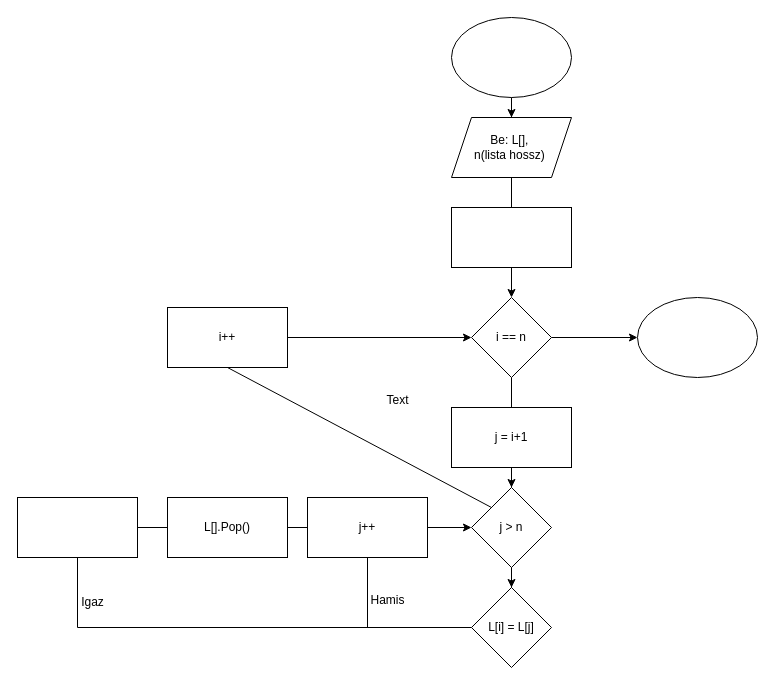
This 775x685 diagram has some shape labels left out. Here are the shapes that lost their labels. From the top down, the box of each, then its label:
(450, 16, 572, 98): START
(450, 206, 572, 268): i = 0
(636, 296, 758, 378): END
(16, 496, 138, 558): tmp = L[j] L[j] = L[n] L[n] = tmp
